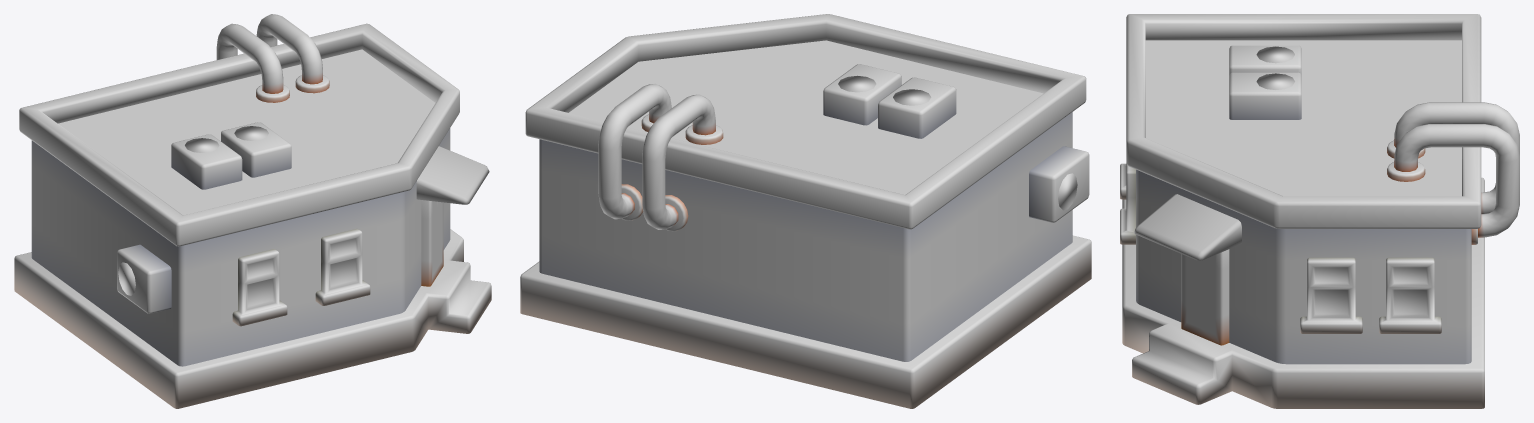
Rendered from Building_011.fbx.
The picture shows the model from 3 angles, left to right: view 1: azimuth 30°, elevation 25°; view 2: azimuth 150°, elevation 25°; view 3: azimuth 270°, elevation 25°; orthographic projection. The views are drawn at different scales.
Parts seen in each view (by area): view 1: Building_011; view 2: Building_011; view 3: Building_011.
Part boxes in pixels (x1,y1,x2,y2): Building_011: (14, 14, 491, 408); Building_011: (520, 14, 1091, 408); Building_011: (1120, 14, 1519, 408).
Bounding box in the file's own units: 997 × 834 × 538.
